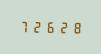eight: (70, 20, 82, 34)
seven: (18, 19, 30, 33)
six: (44, 19, 56, 34)
two: (31, 19, 43, 33), (57, 20, 69, 34)
